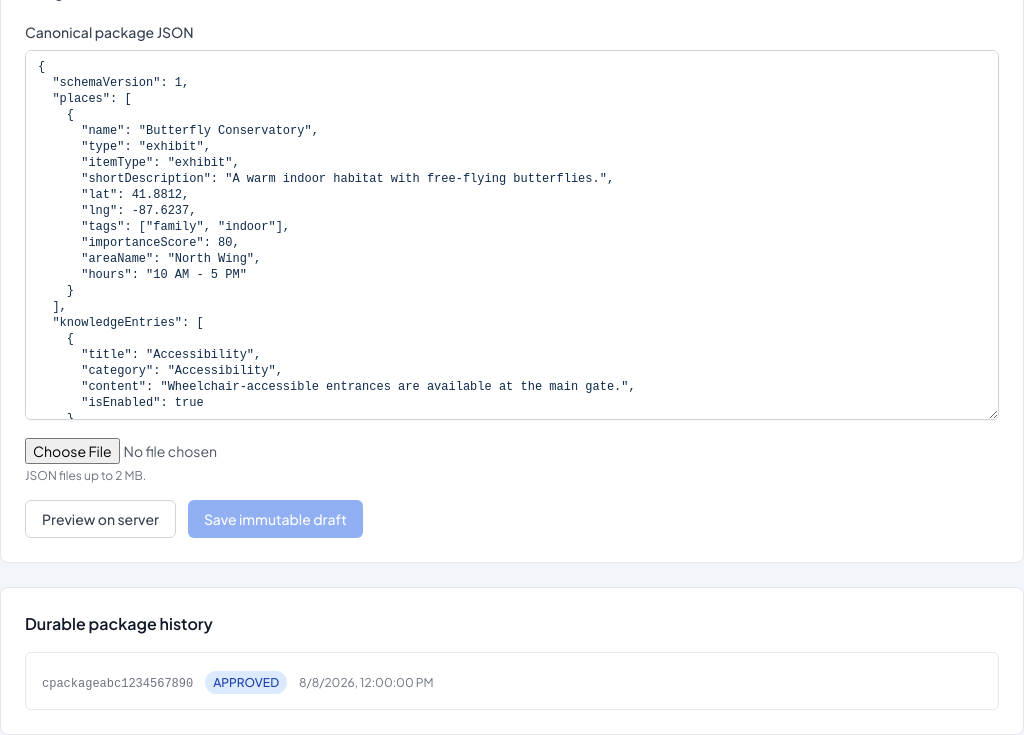
Scenario: venue package workspace › reuses the command key when mutation success is followed by an unconfirmed list failure
(page scrolled)
Click the text "cpackageabc1234567890": (118, 684) 42,677 -> 193,691
(page scrolled)
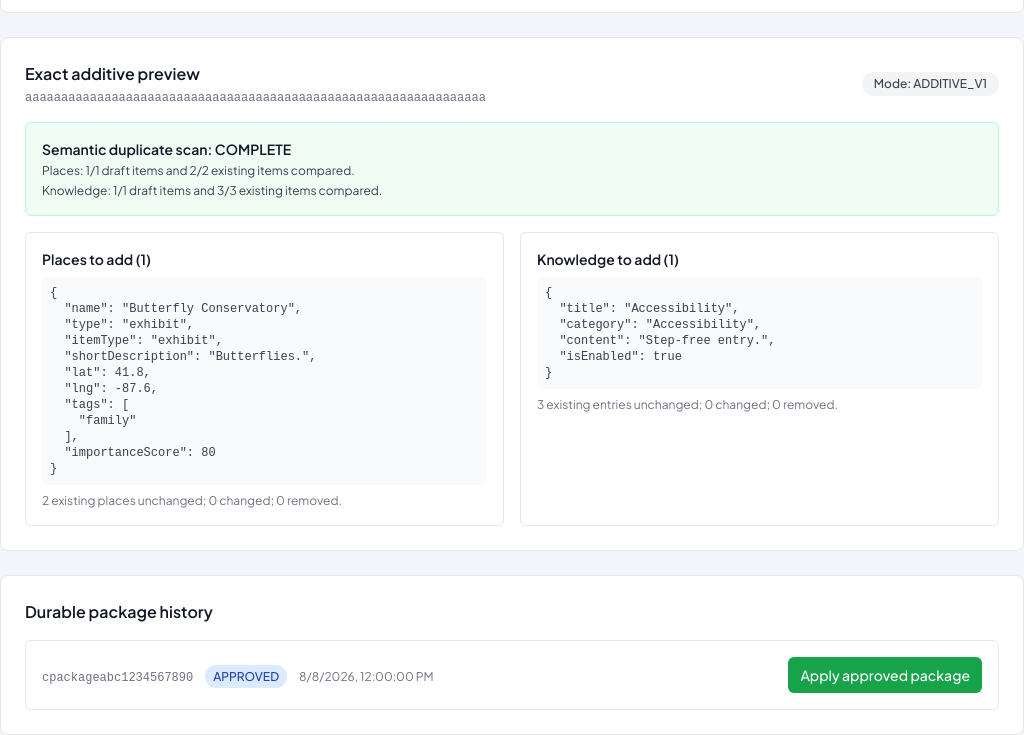
Click the button "Apply approved package": (885, 675) 788,657 -> 982,693
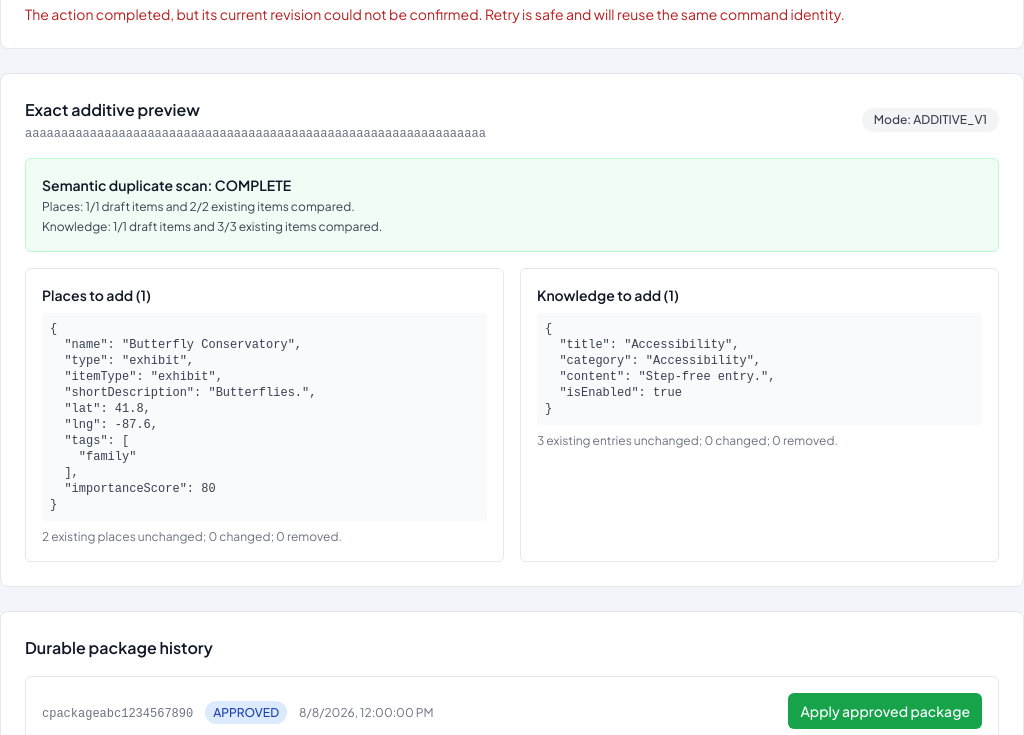
Expected: the text "Package applied atomically." is not shown
Expected: the message shows "could not be confirmed", 25,5 -> 845,23
Click the button "Apply approved package": (885, 711) 788,693 -> 982,729
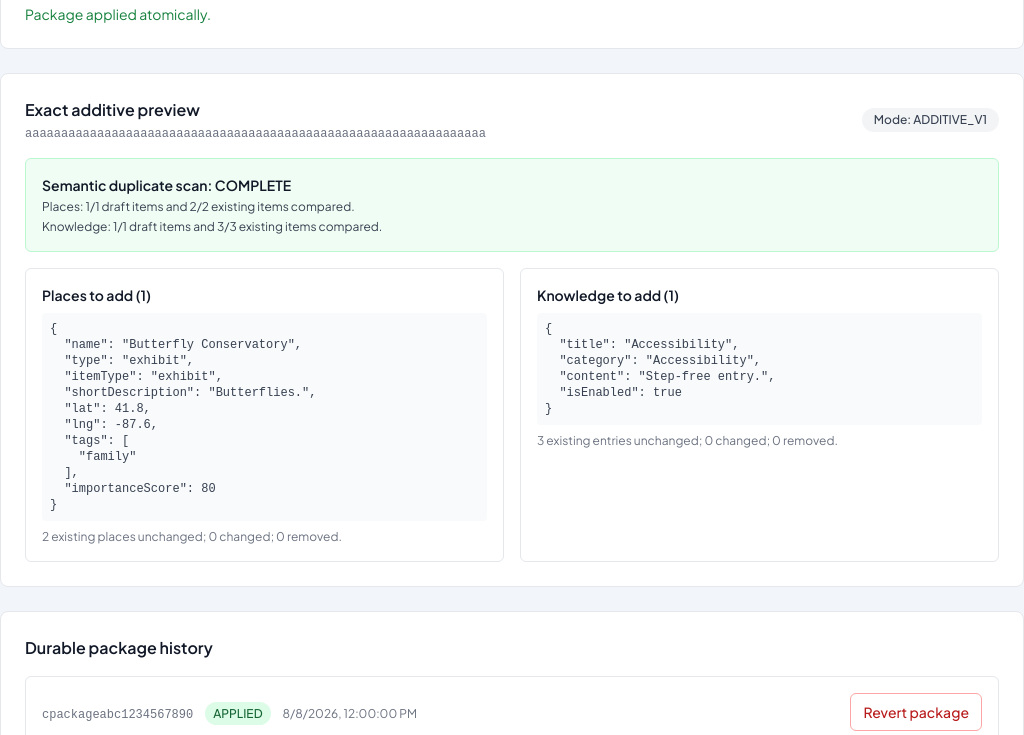
Expected: the text "Package applied atomically." is shown, 25,5 -> 211,23
